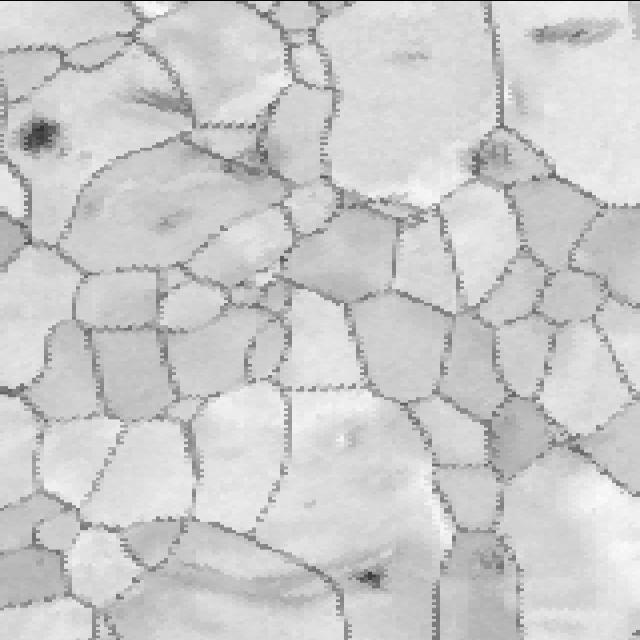good_void: (516, 12, 627, 55), (10, 108, 85, 168), (196, 142, 291, 187), (140, 193, 206, 241), (130, 85, 205, 125), (332, 183, 408, 222), (447, 140, 518, 181), (462, 537, 515, 577), (381, 44, 436, 72), (352, 558, 387, 595)
